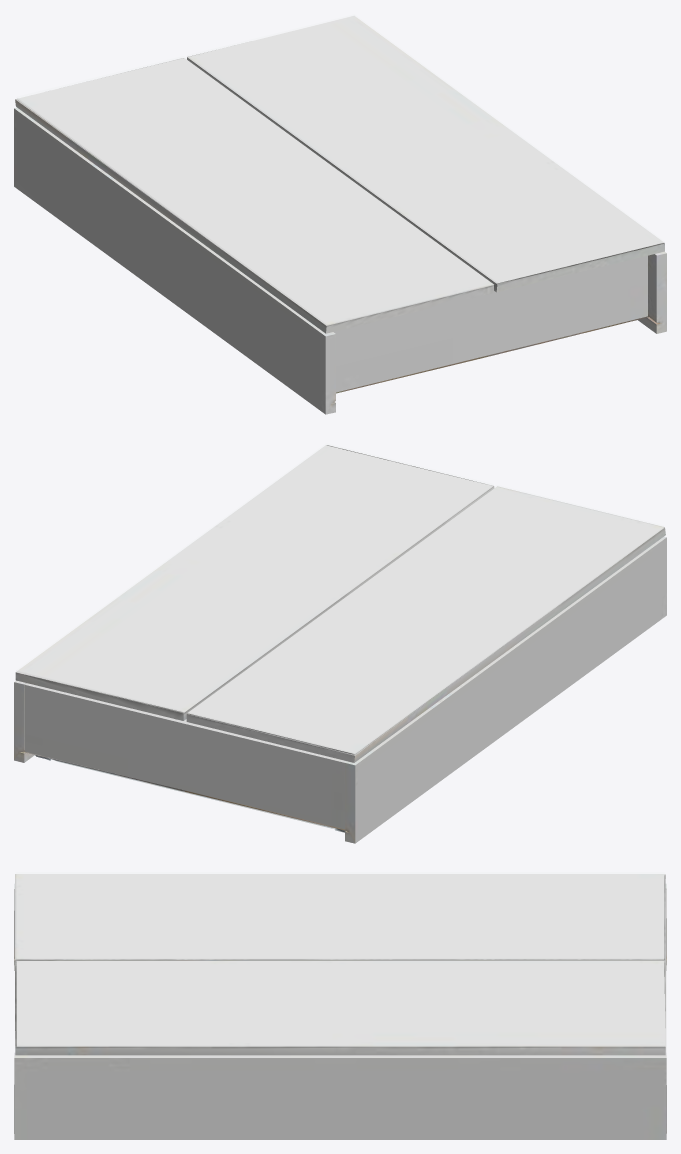
Rendered from 02 - LETTAN Mirror cabinet with doors - mirror effectmirror glass 60x15x95 cm.glb.
The picture shows the model from 3 angles, top to bottom: view 1: azimuth 30°, elevation 25°; view 2: azimuth 150°, elevation 25°; view 3: azimuth 270°, elevation 25°; orthographic projection. The views are drawn at different scales.
Parts seen in each view (by area): view 1: 00534922-LETTAN001; view 2: 00534922-LETTAN001; view 3: 00534922-LETTAN001.
Part boxes in pixels (x1,y1,x2,y2): 00534922-LETTAN001: (14, 15, 666, 414); 00534922-LETTAN001: (14, 445, 666, 843); 00534922-LETTAN001: (14, 874, 666, 1139).
Size of the model in its own units: 0.6001 by 0.1517 by 0.95.
2 materials, 2 textured.
